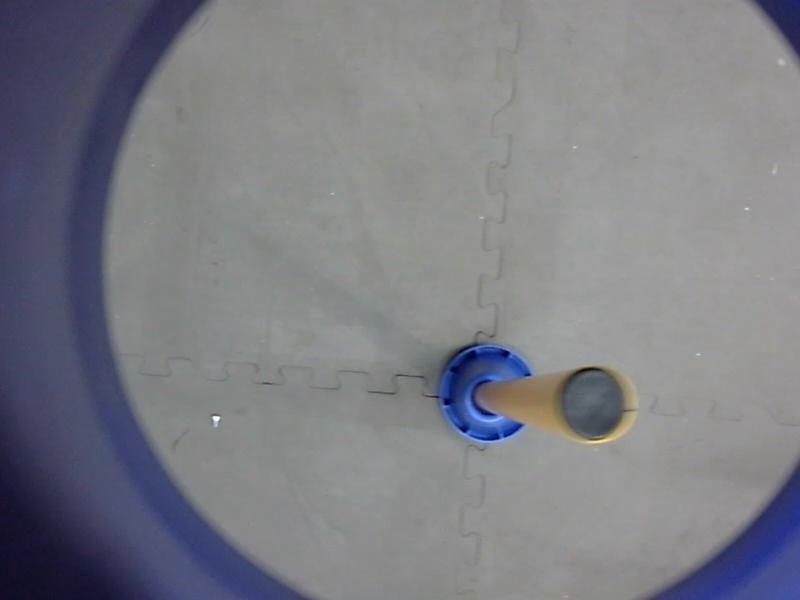tip: (551, 359, 648, 455)
